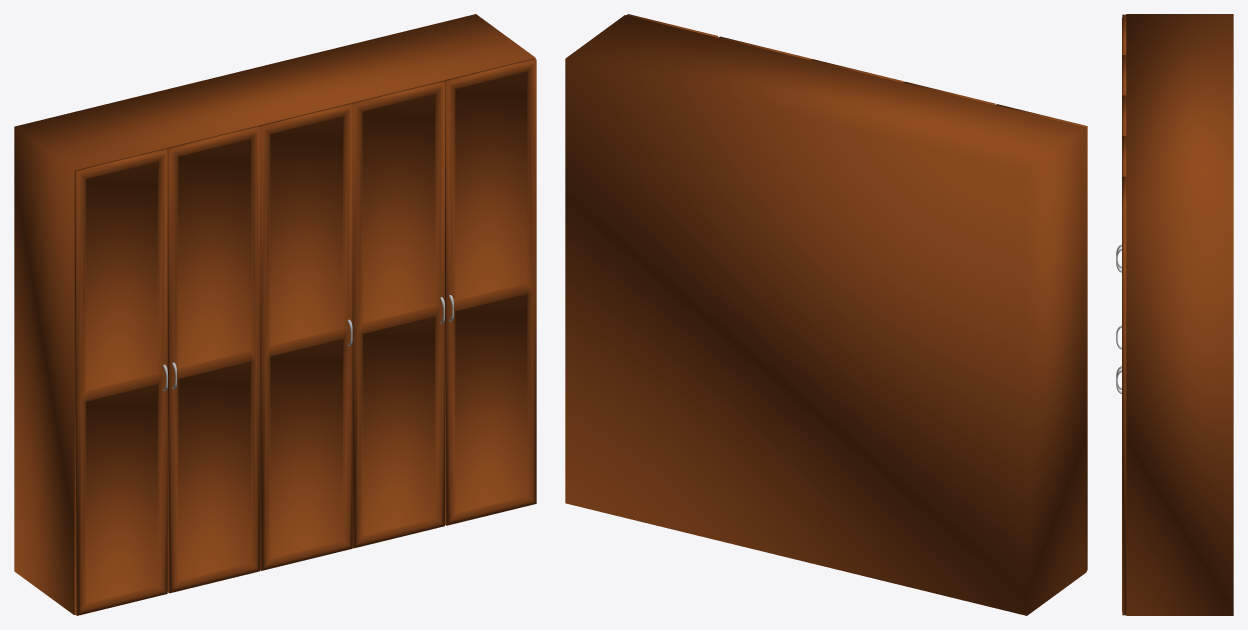
File: wardrobe1.glb
The picture shows the model from 3 angles, left to right: view 1: azimuth 30°, elevation 25°; view 2: azimuth 150°, elevation 25°; view 3: azimuth 270°, elevation 25°; orthographic projection. The views are drawn at different scales.
Parts seen in each view (by area): view 1: wardrobe_Cube.025; view 2: wardrobe_Cube.025; view 3: wardrobe_Cube.025.
Boxes of the visible parts, box(x1,y1,x2,y2) form: wardrobe_Cube.025: box(14, 14, 536, 615); wardrobe_Cube.025: box(565, 14, 1087, 615); wardrobe_Cube.025: box(1122, 14, 1233, 615).
Size of the model in its own units: 2.5 by 2.3 by 0.6121.
Materials: 2 (1 with a texture image).
